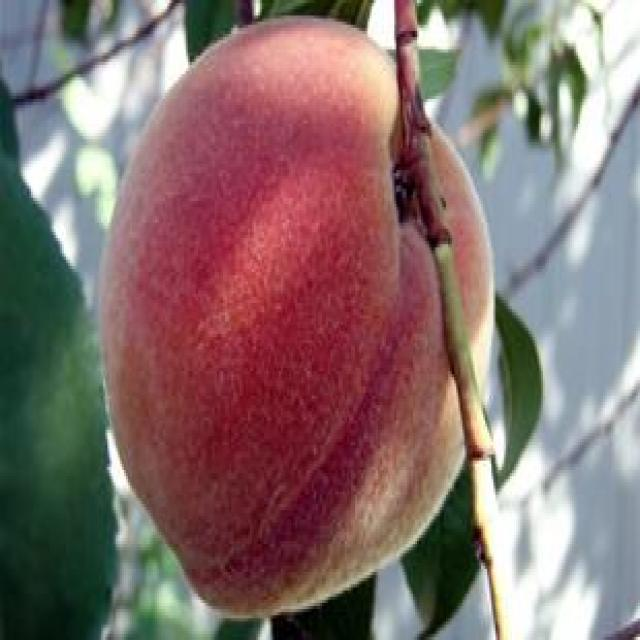peach: (97, 16, 496, 624)
